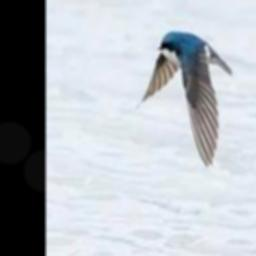Swallow: (138, 29, 233, 164)
